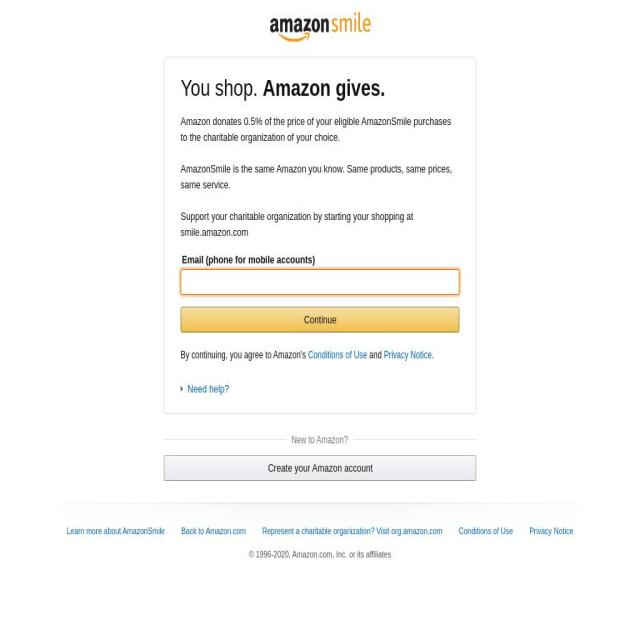button: (164, 456, 476, 480), (180, 381, 230, 397)
field: (180, 269, 460, 295), (181, 308, 459, 332)
heading: (262, 75, 386, 101), (180, 75, 262, 101), (291, 435, 348, 445)
image: (11, 503, 629, 539), (270, 12, 370, 42), (181, 385, 185, 392)
label: (180, 252, 460, 269)
link: (262, 526, 445, 536), (66, 526, 167, 536), (307, 349, 367, 361), (181, 526, 248, 536), (383, 349, 432, 361), (459, 526, 515, 536), (529, 526, 575, 536)
text: (180, 162, 452, 191), (181, 115, 451, 143), (181, 210, 413, 238), (181, 349, 308, 361), (249, 549, 392, 559), (188, 383, 230, 395), (367, 349, 384, 361), (431, 349, 434, 361)
